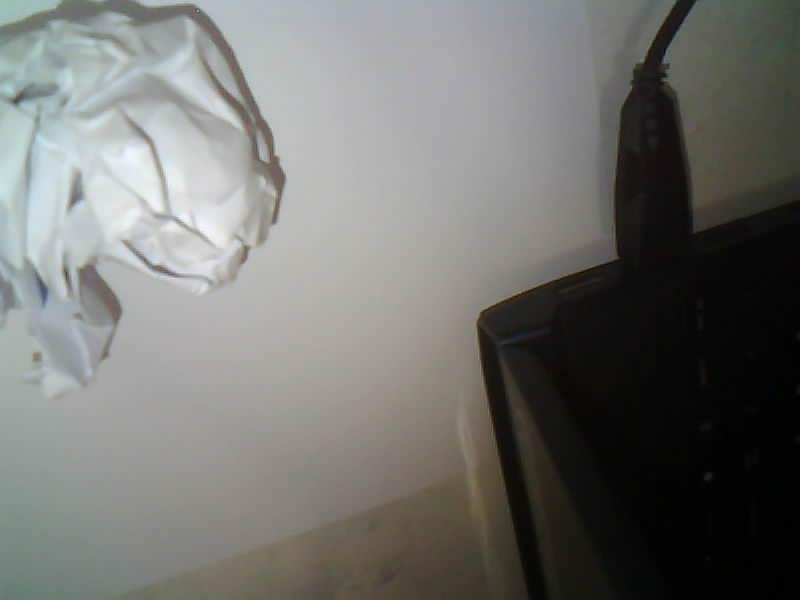biodegradable: (0, 9, 278, 395)
